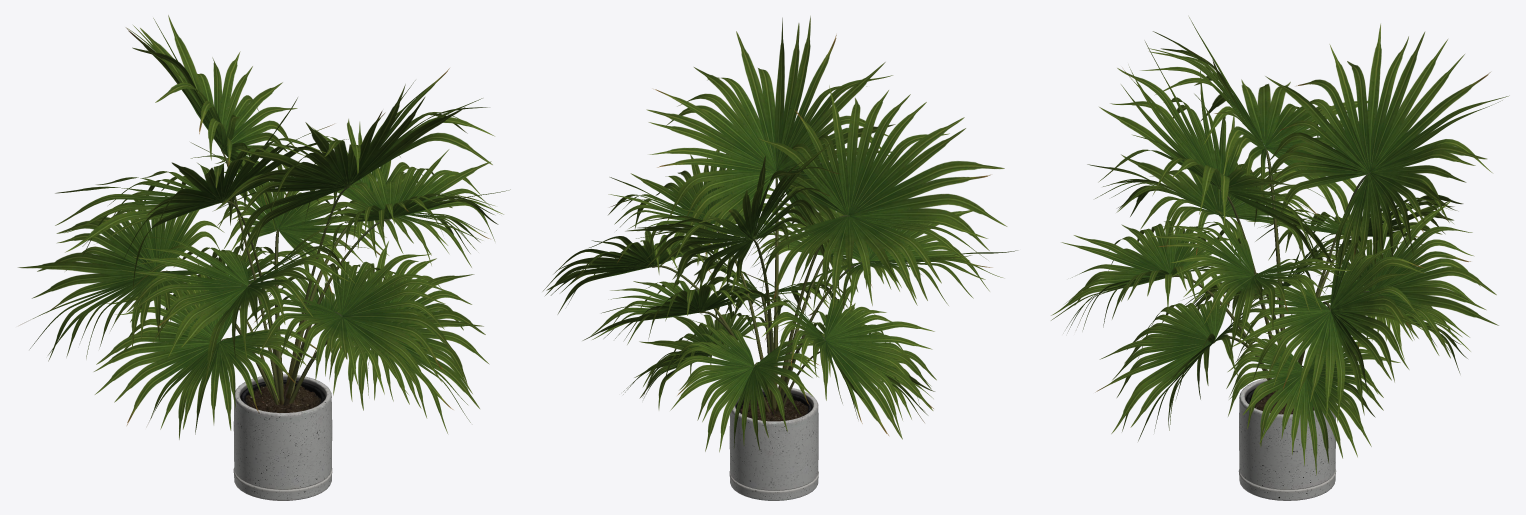
Rendered from lgplant.glb.
3 views of the same model, side by side, from view 1: azimuth 30°, elevation 25°; view 2: azimuth 150°, elevation 25°; view 3: azimuth 270°, elevation 25° (orthographic). The views are drawn at different scales.
Visible parts, largest first — view 1: lgplant; view 2: lgplant; view 3: lgplant.
Part boxes in pixels (bbox=[...]): lgplant: bbox=[18, 15, 510, 500]; lgplant: bbox=[542, 16, 1017, 500]; lgplant: bbox=[1051, 17, 1509, 500].
Size of the model in its own units: 1.83 by 1.75 by 1.66.
2 materials, 2 textured.
